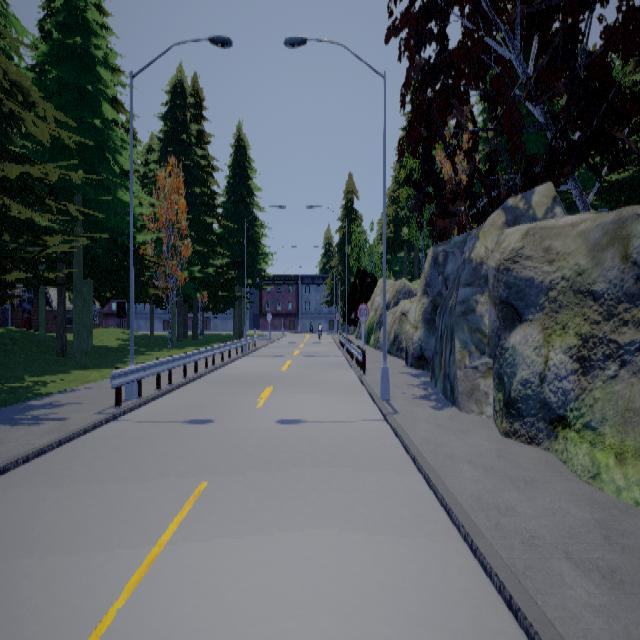traffic_sign: (356, 302, 368, 322)
